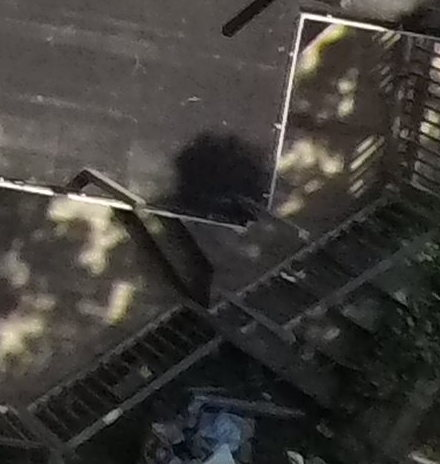clutter: (147, 372, 268, 464)
